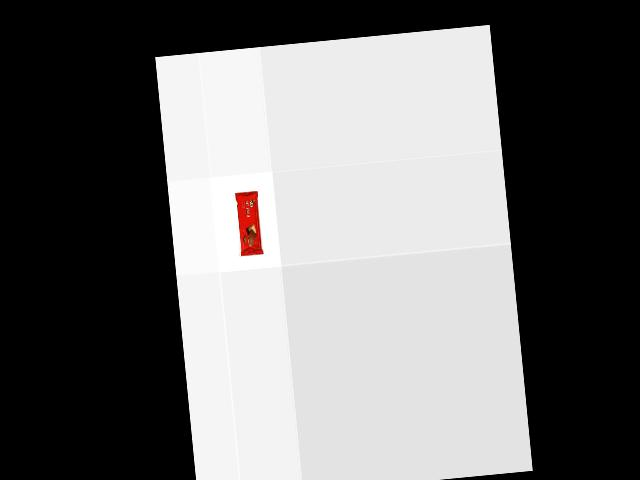chocolate: (234, 188, 263, 255)
